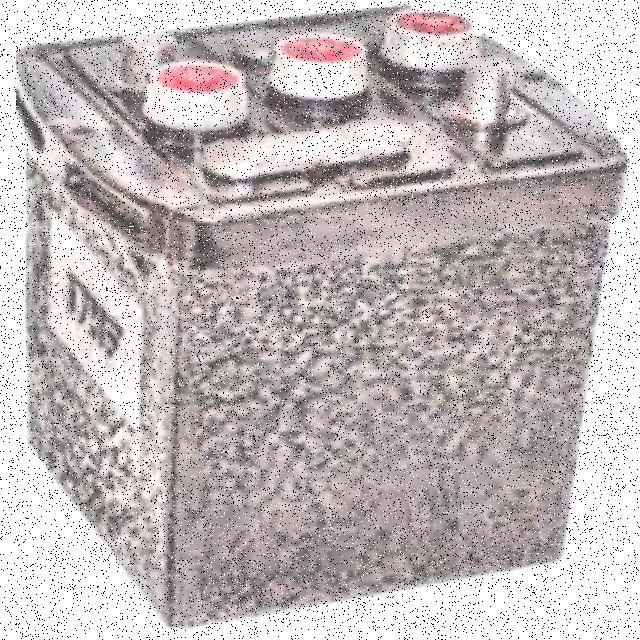B3: (11, 3, 632, 627)
